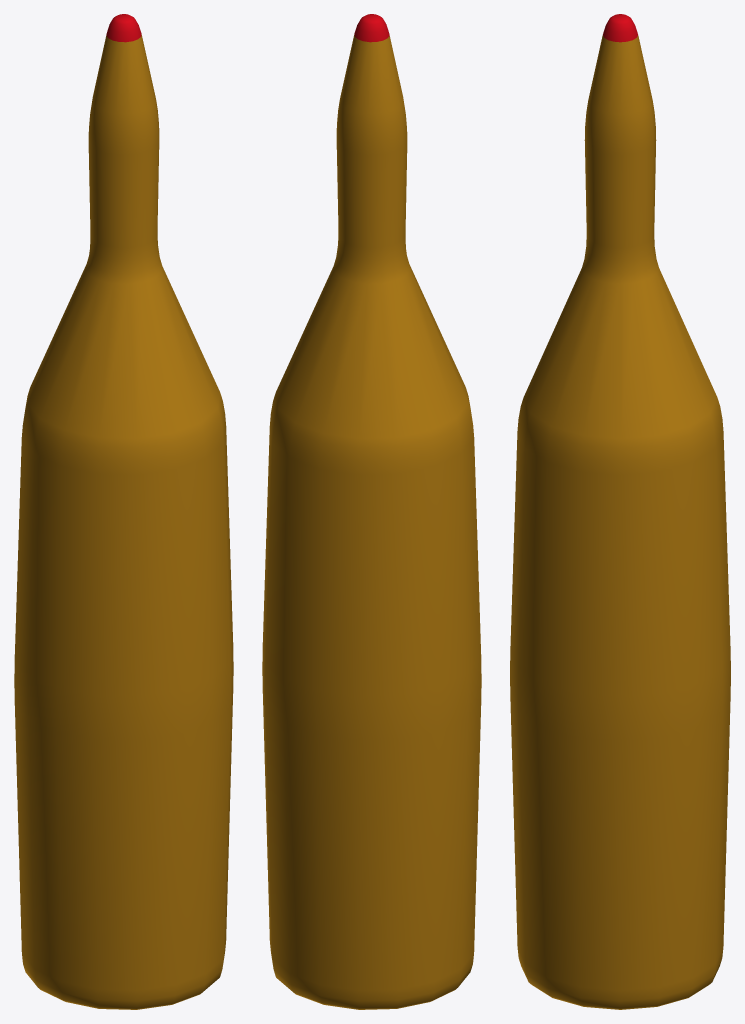
File: Gorchica.fbx
3 views of the same model, side by side, from view 1: azimuth 30°, elevation 25°; view 2: azimuth 150°, elevation 25°; view 3: azimuth 270°, elevation 25° (orthographic).
Visible parts, largest first — view 1: Ketchub; view 2: Ketchub; view 3: Ketchub.
Part boxes in pixels (x1,y1,x2,y2): Ketchub: [14, 14, 233, 1009]; Ketchub: [262, 14, 481, 1009]; Ketchub: [510, 14, 730, 1009].
Bounding box in the file's own units: 27.32 × 130 × 27.32.
